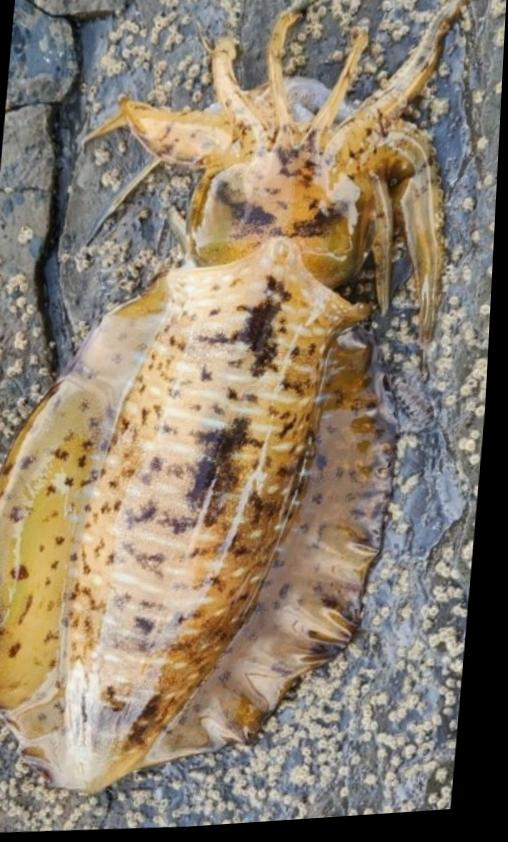Cephalopod: (0, 0, 481, 792)
